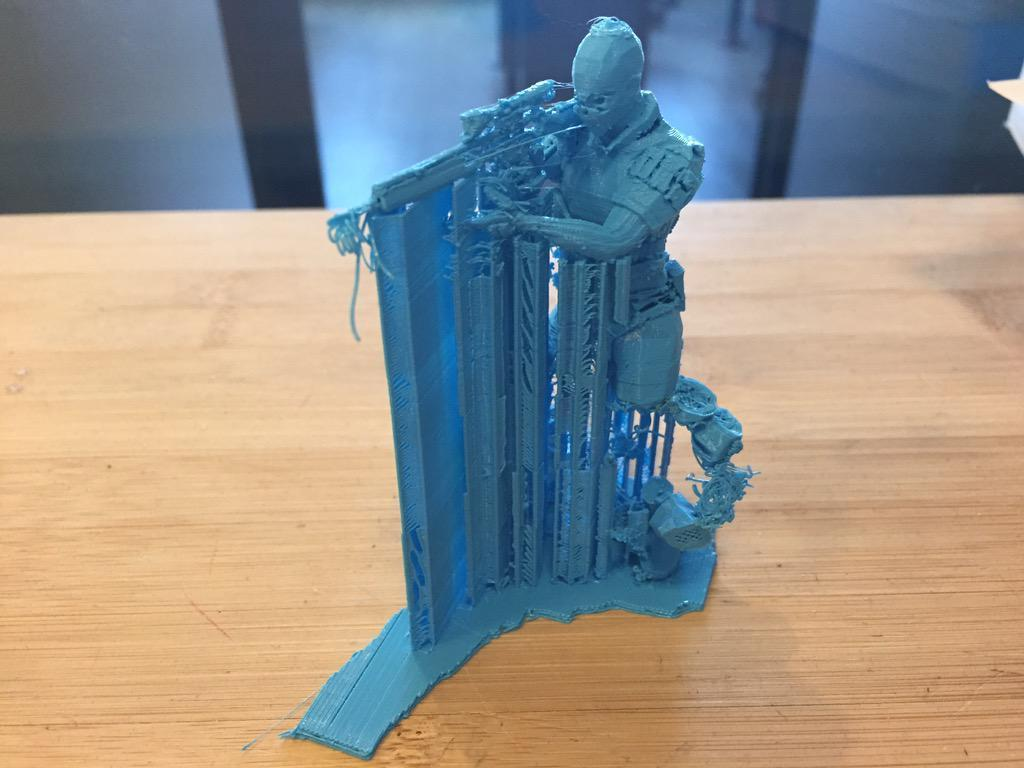Spaghetti: (664, 372, 763, 558), (636, 126, 712, 327), (315, 204, 377, 351), (473, 144, 574, 219), (452, 110, 585, 165), (584, 8, 655, 45), (371, 179, 475, 202), (784, 646, 909, 657)
Stringing or Oozing: (361, 217, 613, 644)
